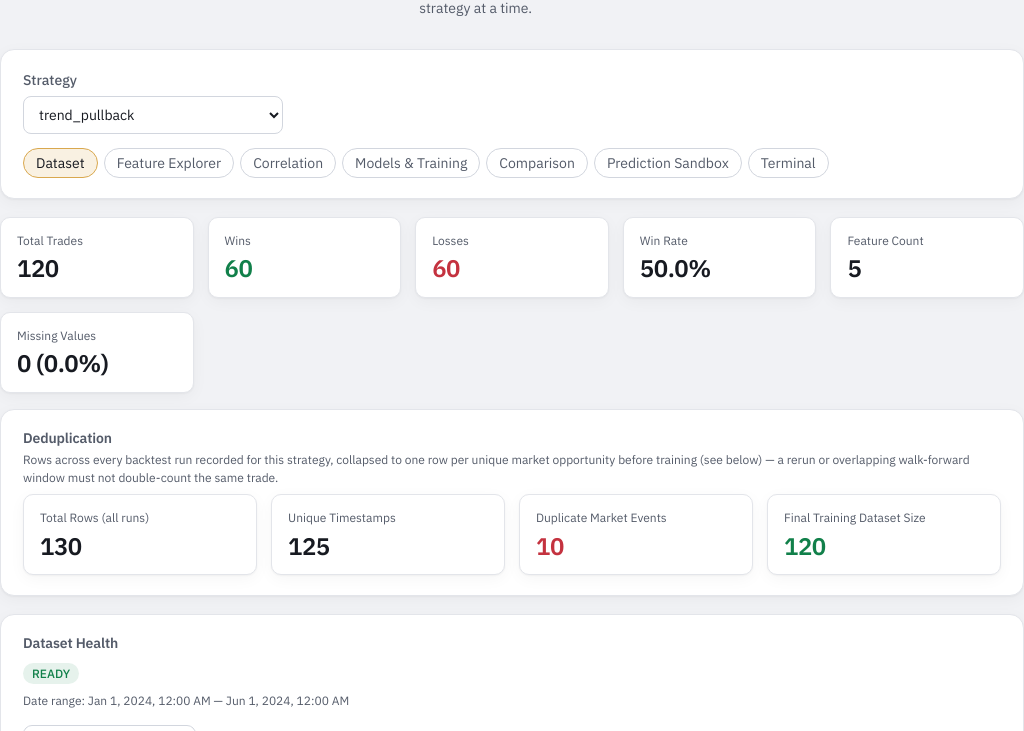
Test: MlResearch › Models & Training tab: flags an overfit model with a warning banner
Expected: the text "READY" is shown, [23, 663, 79, 684]
Step 1. Click the button "Models & Training" → (411,163), box [342, 148, 480, 178]
(page scrolled)
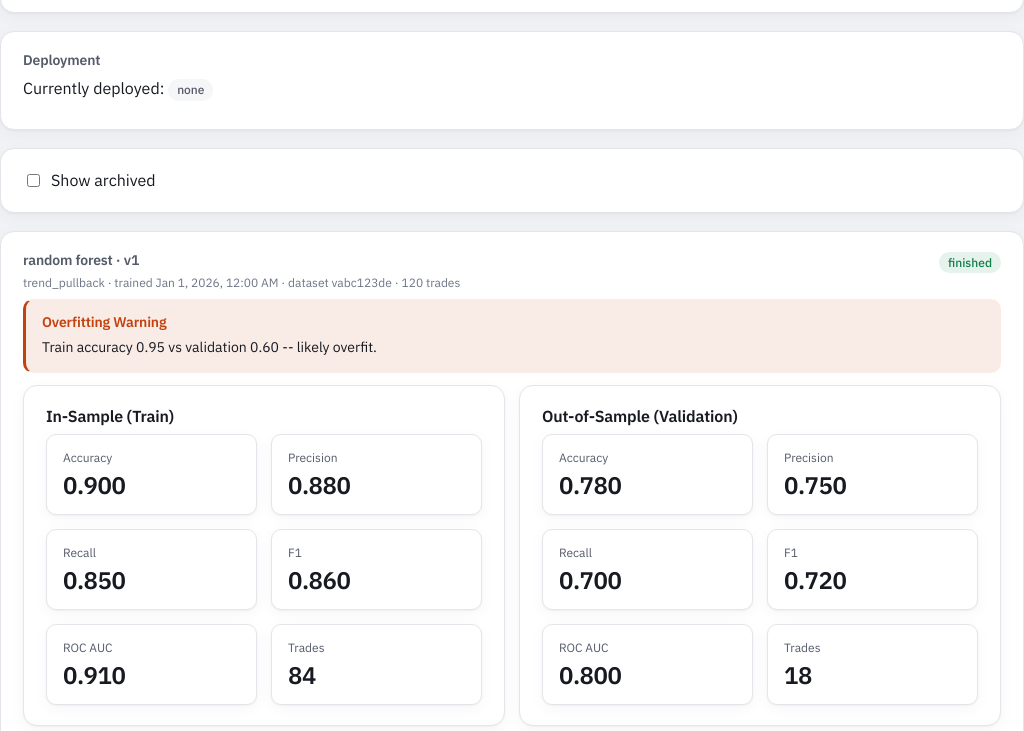
Now the heading "Overfitting Warning" is shown, box [42, 313, 166, 331]
Now the text "Train accuracy 0.95 vs validation 0.60 -- likely overfit." is shown, box [42, 338, 377, 356]
